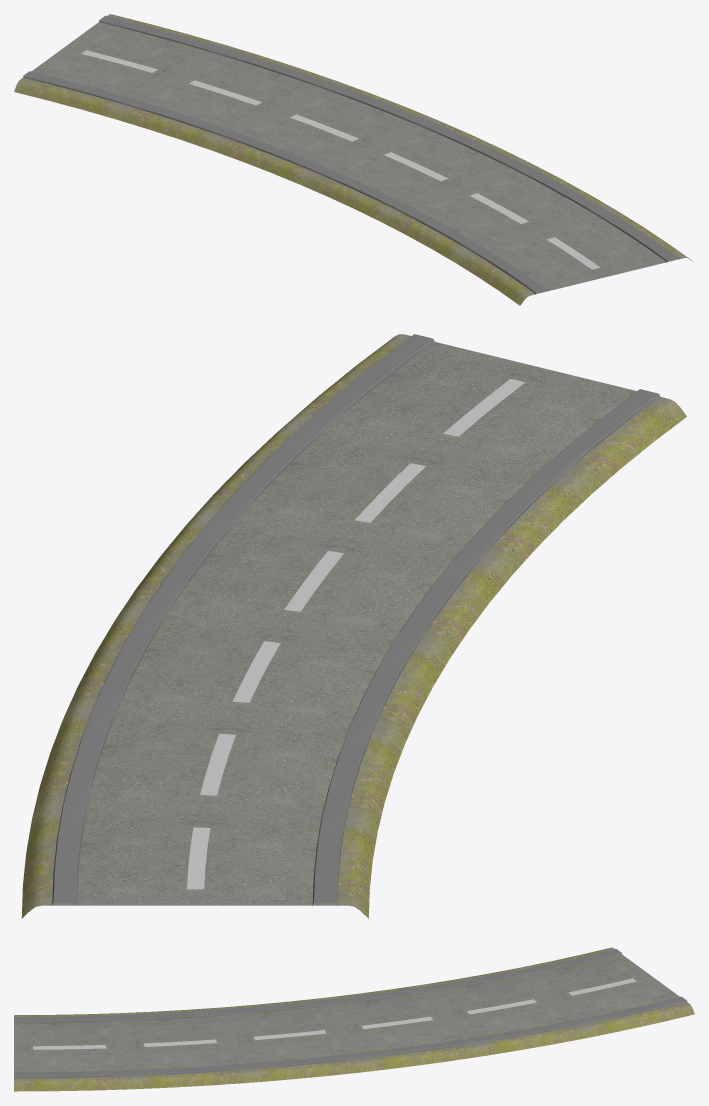
The model's file is SM_road_curve_01.fbx.
3 renders of one model, top to bottom at view 1: azimuth 30°, elevation 25°; view 2: azimuth 150°, elevation 25°; view 3: azimuth 270°, elevation 25°, orthographic. The views are drawn at different scales.
Parts seen in each view (by area): view 1: Plane008; view 2: Plane008; view 3: Plane008.
Part boxes in pixels (bbox=[...]): Plane008: bbox=[14, 14, 692, 305]; Plane008: bbox=[21, 334, 686, 918]; Plane008: bbox=[14, 947, 694, 1091].
Size of the model in its own units: 353 by 9.41 by 723.
